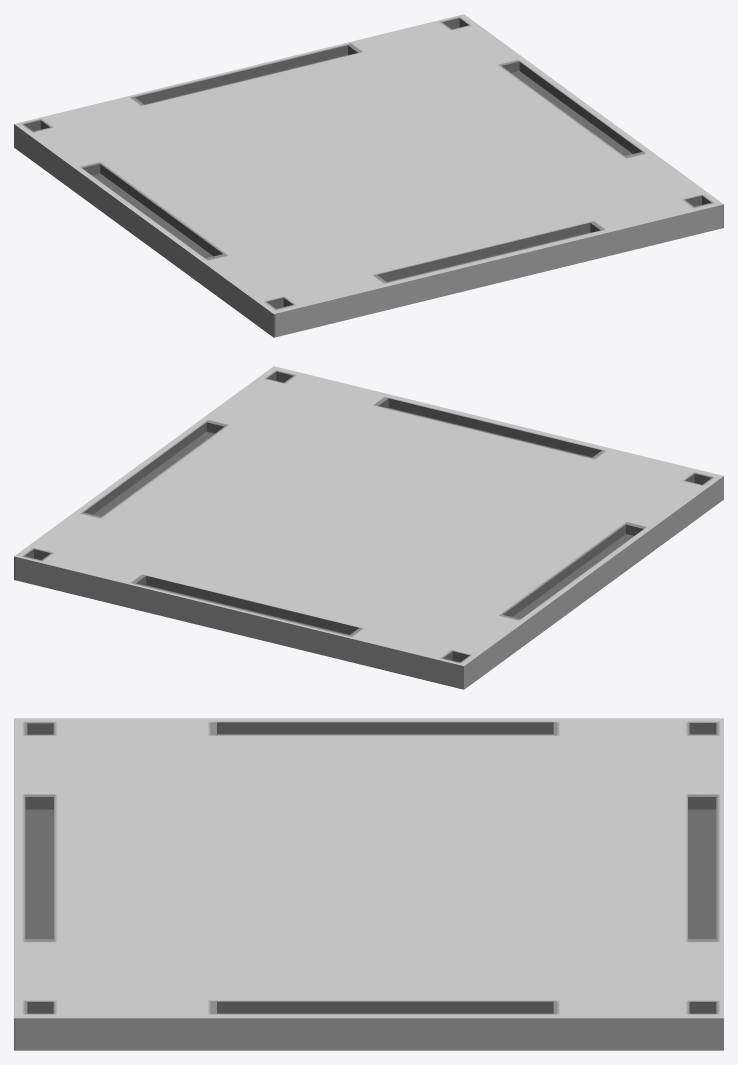
Rendered from FloorBrick_02.fbx.
3 renders of one model, top to bottom at view 1: azimuth 30°, elevation 25°; view 2: azimuth 150°, elevation 25°; view 3: azimuth 270°, elevation 25°, orthographic. The views are drawn at different scales.
Visible parts, largest first — view 1: Cube.003; view 2: Cube.003; view 3: Cube.003.
Part boxes in pixels (left/top/right/bottom): Cube.003: left=14, top=14, right=723, bottom=337; Cube.003: left=14, top=366, right=723, bottom=689; Cube.003: left=14, top=718, right=723, bottom=1050.
Bounding box in the file's own units: 100 × 5 × 100.
Materials: 1 (1 with a texture image).
